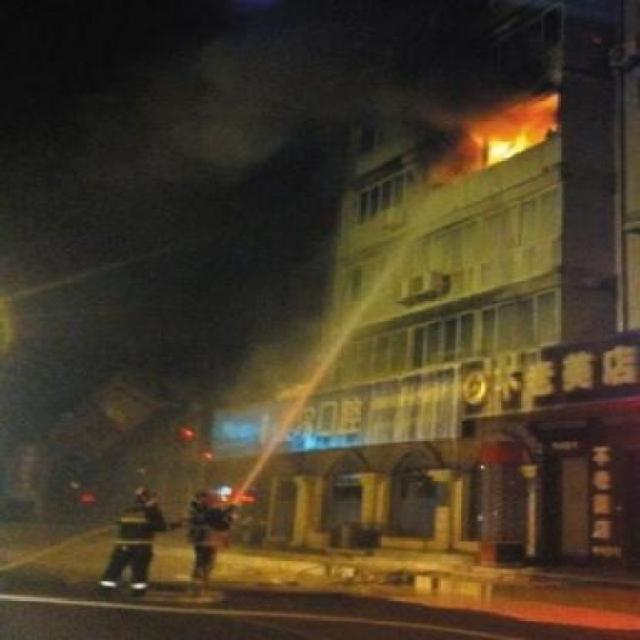Fire: (476, 118, 540, 183)
